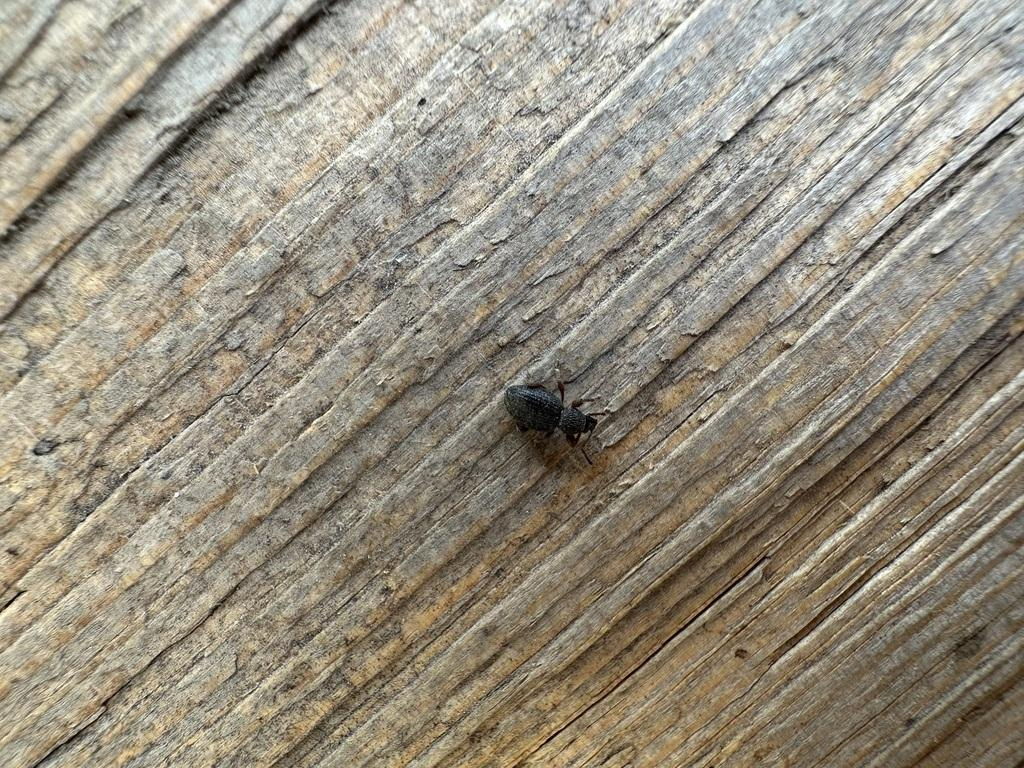weevils: (481, 340, 640, 492)
